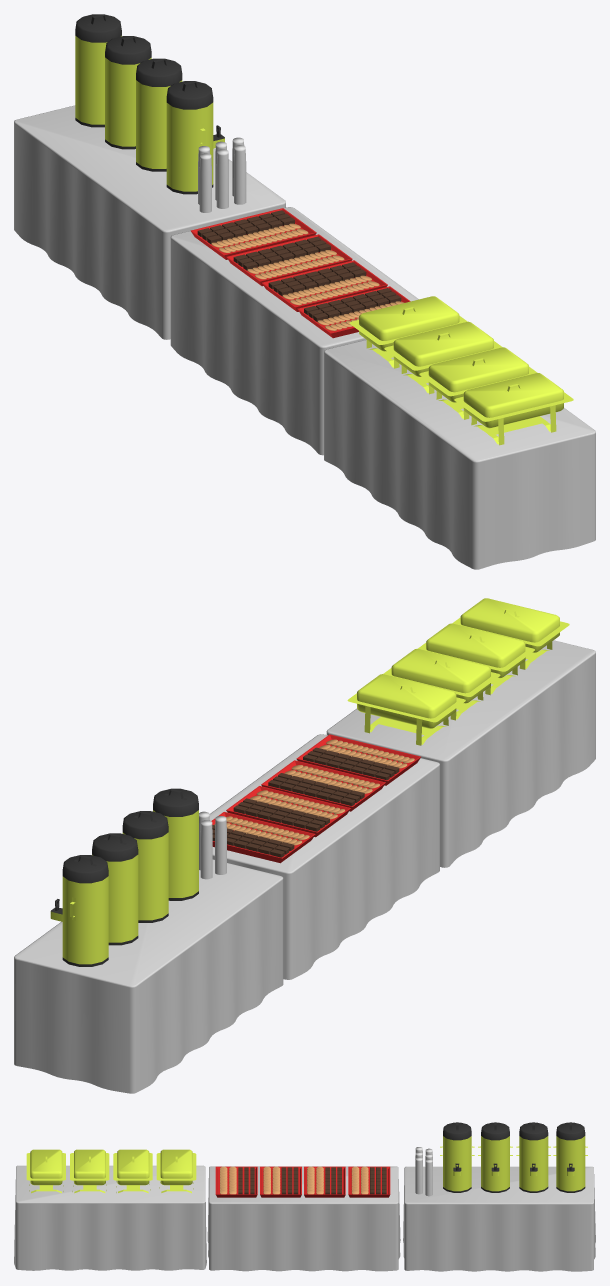
Rendered from banquet.fbx.
3 renders of one model, top to bottom at view 1: azimuth 30°, elevation 25°; view 2: azimuth 150°, elevation 25°; view 3: azimuth 270°, elevation 25°, orthographic. The views are drawn at different scales.
Parts seen in each view (by area): view 1: Cube.1039_Cube.1484, Cube.1033_Cube.1478, Cube.1032_Cube.1477, Cube.1038_Cube.1483, Cube.919_Cube.001, Cube, Cube.919_Cube.1269, Cylinder.008, Cube.918_Cube.000, Cube.919_Cube.000; view 2: Cube.1033_Cube.1478, Cube.1039_Cube.1484, Cube.1032_Cube.1477, Cube.1038_Cube.1483, Cube.919_Cube.001, Cube, Cube.919_Cube.1269, Cylinder.008, Cube.918_Cube.000, Cube.919_Cube.000; view 3: Cube.1033_Cube.1478, Cube.1039_Cube.1484, Cube.1032_Cube.1477, Cube.1038_Cube.1483, Cube.919_Cube.001, Cube.918_Cube.000, Cube.919_Cube.1269, Cylinder.008, Cube, Cube.919_Cube.000, Cube.919_Cube.003, Cube.919_Cube.002.
Part boxes in pixels (bbox=[...]): Cube.1039_Cube.1484: bbox=[324, 340, 595, 569]; Cube.1033_Cube.1478: bbox=[14, 105, 285, 339]; Cube.1032_Cube.1477: bbox=[170, 207, 418, 455]; Cube.1038_Cube.1483: bbox=[349, 296, 573, 445]; Cube.919_Cube.001: bbox=[75, 35, 224, 191]; Cube: bbox=[197, 210, 401, 321]; Cube.919_Cube.1269: bbox=[75, 14, 213, 109]; Cylinder.008: bbox=[211, 223, 404, 330]; Cube.918_Cube.000: bbox=[190, 208, 410, 338]; Cube.919_Cube.000: bbox=[198, 137, 246, 212]; Cube.1033_Cube.1478: bbox=[14, 859, 283, 1093]; Cube.1039_Cube.1484: bbox=[326, 640, 595, 867]; Cube.1032_Cube.1477: bbox=[209, 734, 439, 979]; Cube.1038_Cube.1483: bbox=[347, 598, 569, 745]; Cube.919_Cube.001: bbox=[50, 810, 198, 964]; Cube: bbox=[212, 747, 399, 857]; Cube.919_Cube.1269: bbox=[62, 788, 198, 883]; Cylinder.008: bbox=[214, 739, 414, 845]; Cube.918_Cube.000: bbox=[211, 734, 420, 863]; Cube.919_Cube.000: bbox=[199, 811, 226, 879]; Cube.1033_Cube.1478: bbox=[403, 1166, 595, 1271]; Cube.1039_Cube.1484: bbox=[14, 1165, 206, 1270]; Cube.1032_Cube.1477: bbox=[207, 1166, 400, 1271]; Cube.1038_Cube.1483: bbox=[26, 1149, 196, 1193]; Cube.919_Cube.001: bbox=[440, 1136, 587, 1191]; Cube.918_Cube.000: bbox=[215, 1166, 390, 1197]; Cube.919_Cube.1269: bbox=[443, 1122, 585, 1140]; Cylinder.008: bbox=[220, 1166, 368, 1194]; Cube: bbox=[238, 1167, 386, 1194]; Cube.919_Cube.000: bbox=[415, 1147, 432, 1196]; Cube.919_Cube.003: bbox=[443, 1187, 585, 1192]; Cube.919_Cube.002: bbox=[453, 1163, 574, 1171].
Bounding box in the file's own units: 210 × 321 × 1298.
